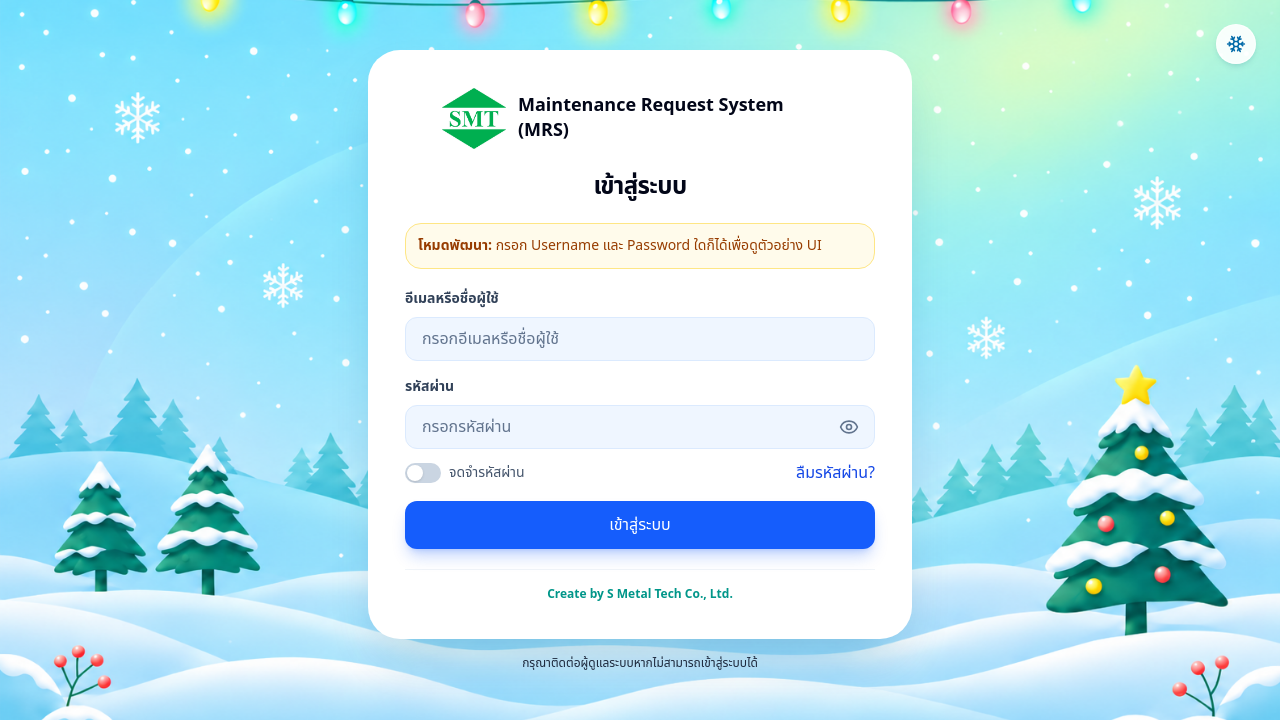
it: LoginPage › asks the employee to contact HR when password is forgotten
Click the button "ลืมรหัสผ่าน?" at (836, 472), box top-left (796, 460), bottom-right (875, 484)
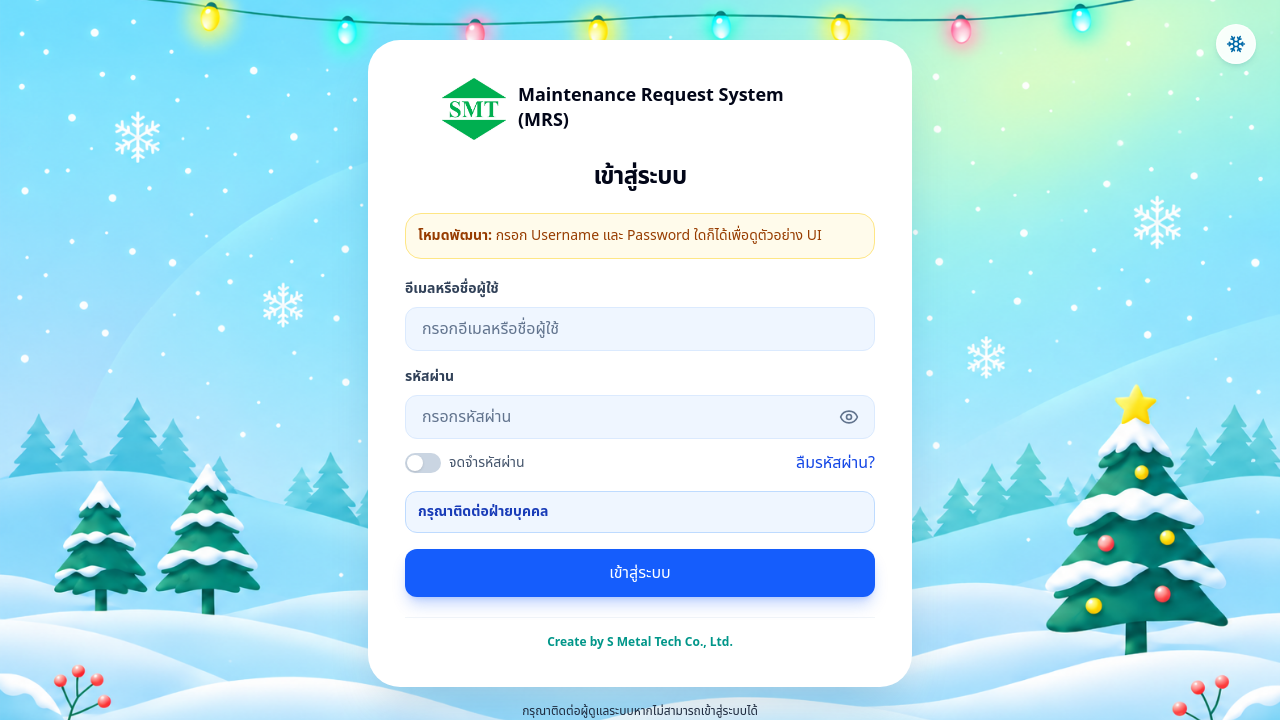
Expected: the message reads "กรุณาติดต่อฝ่ายบุคคล", top-left (418, 501), bottom-right (548, 522)
